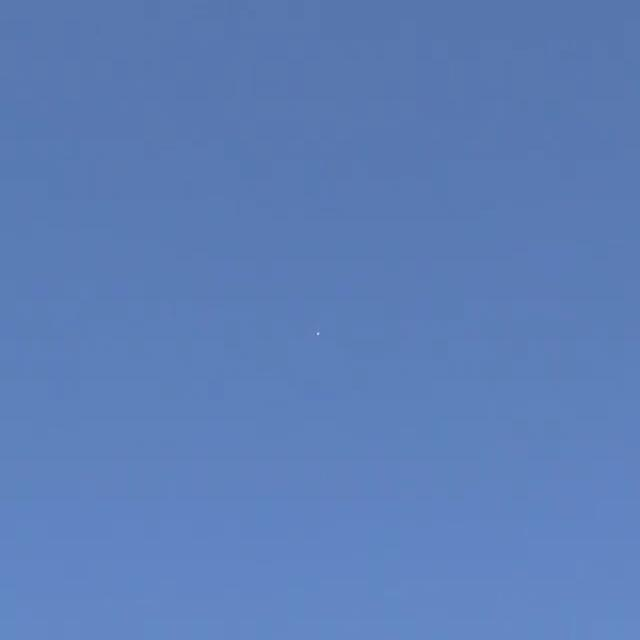AirPlane: (306, 317, 331, 351)
